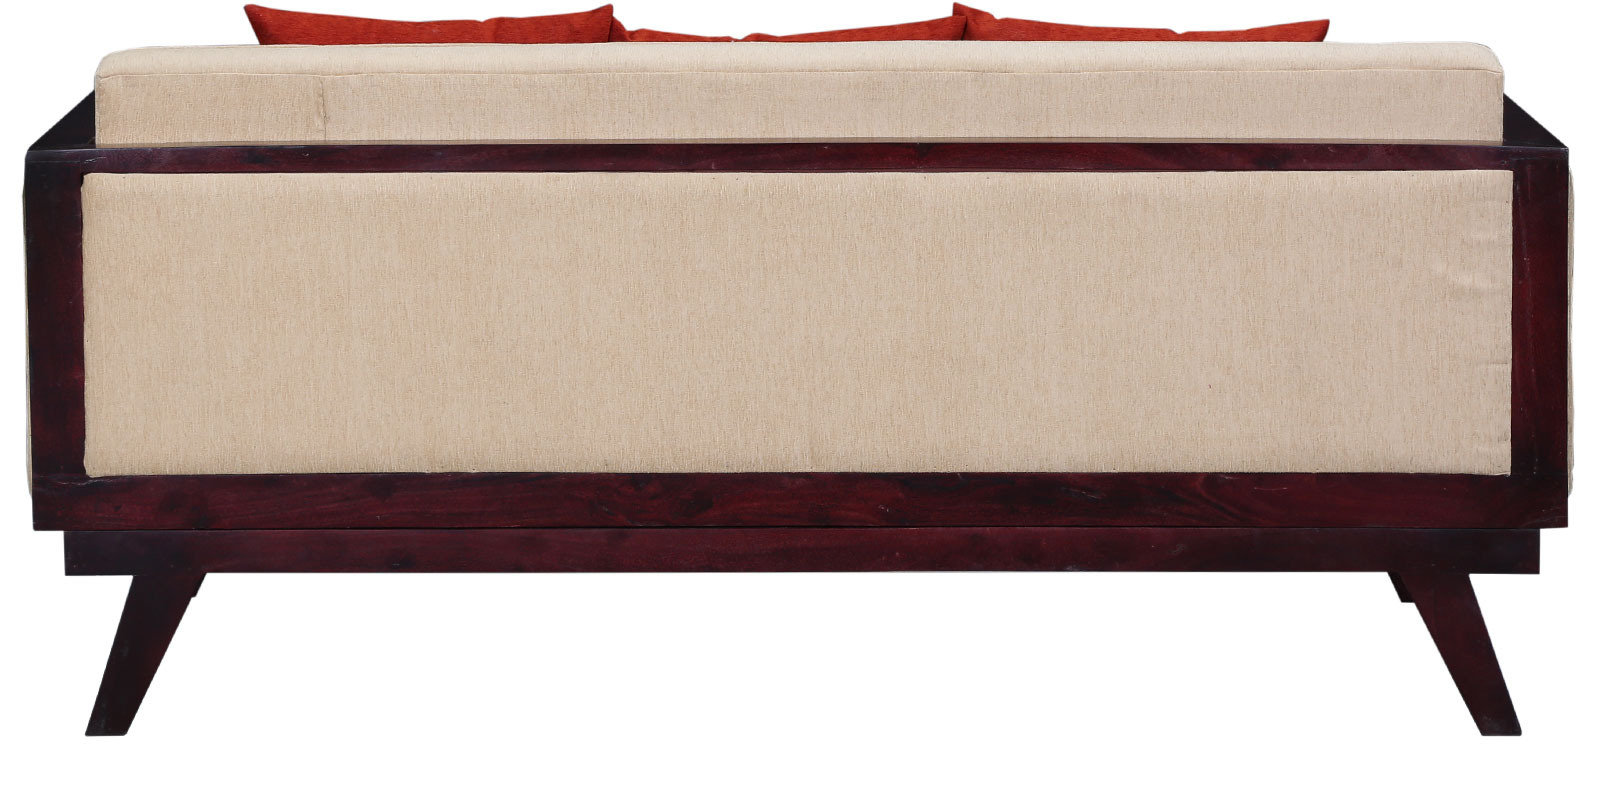Barnes Three Seater Sofa with Cushions in Passion Mahogany Finish by Woodsworth: (18, 5, 1592, 713)
